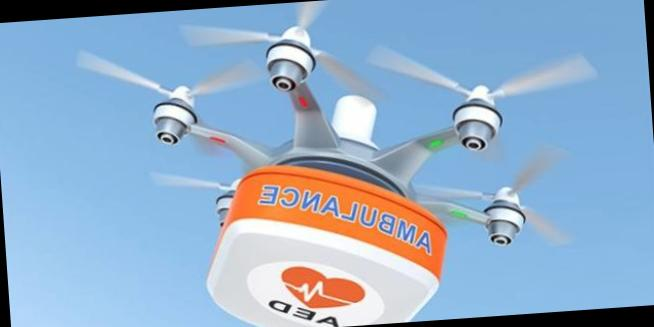drone: (69, 2, 602, 266)
